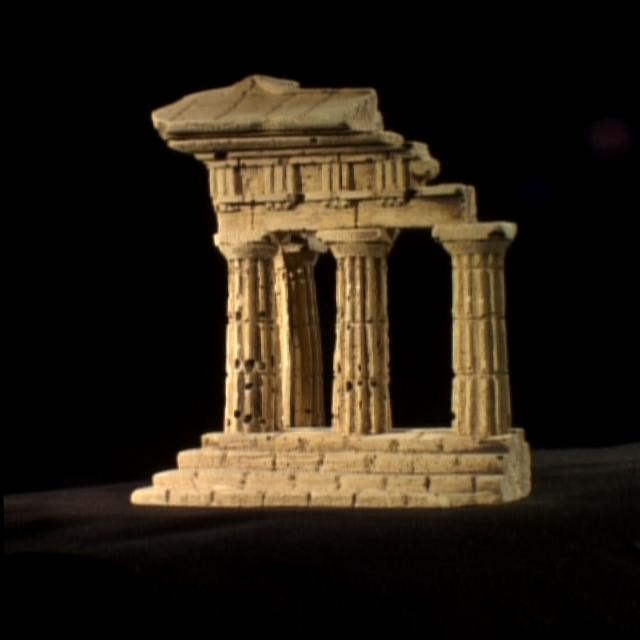Instance-Segmentation: (132, 75, 530, 508)
